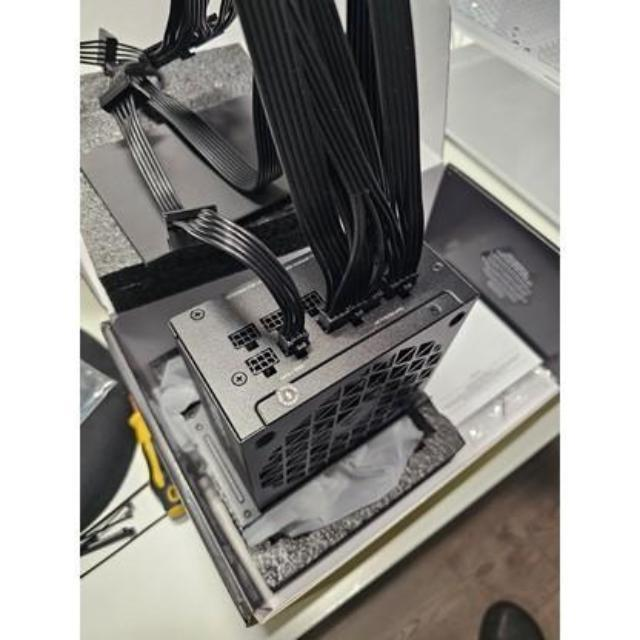PSU: (164, 196, 488, 513)
